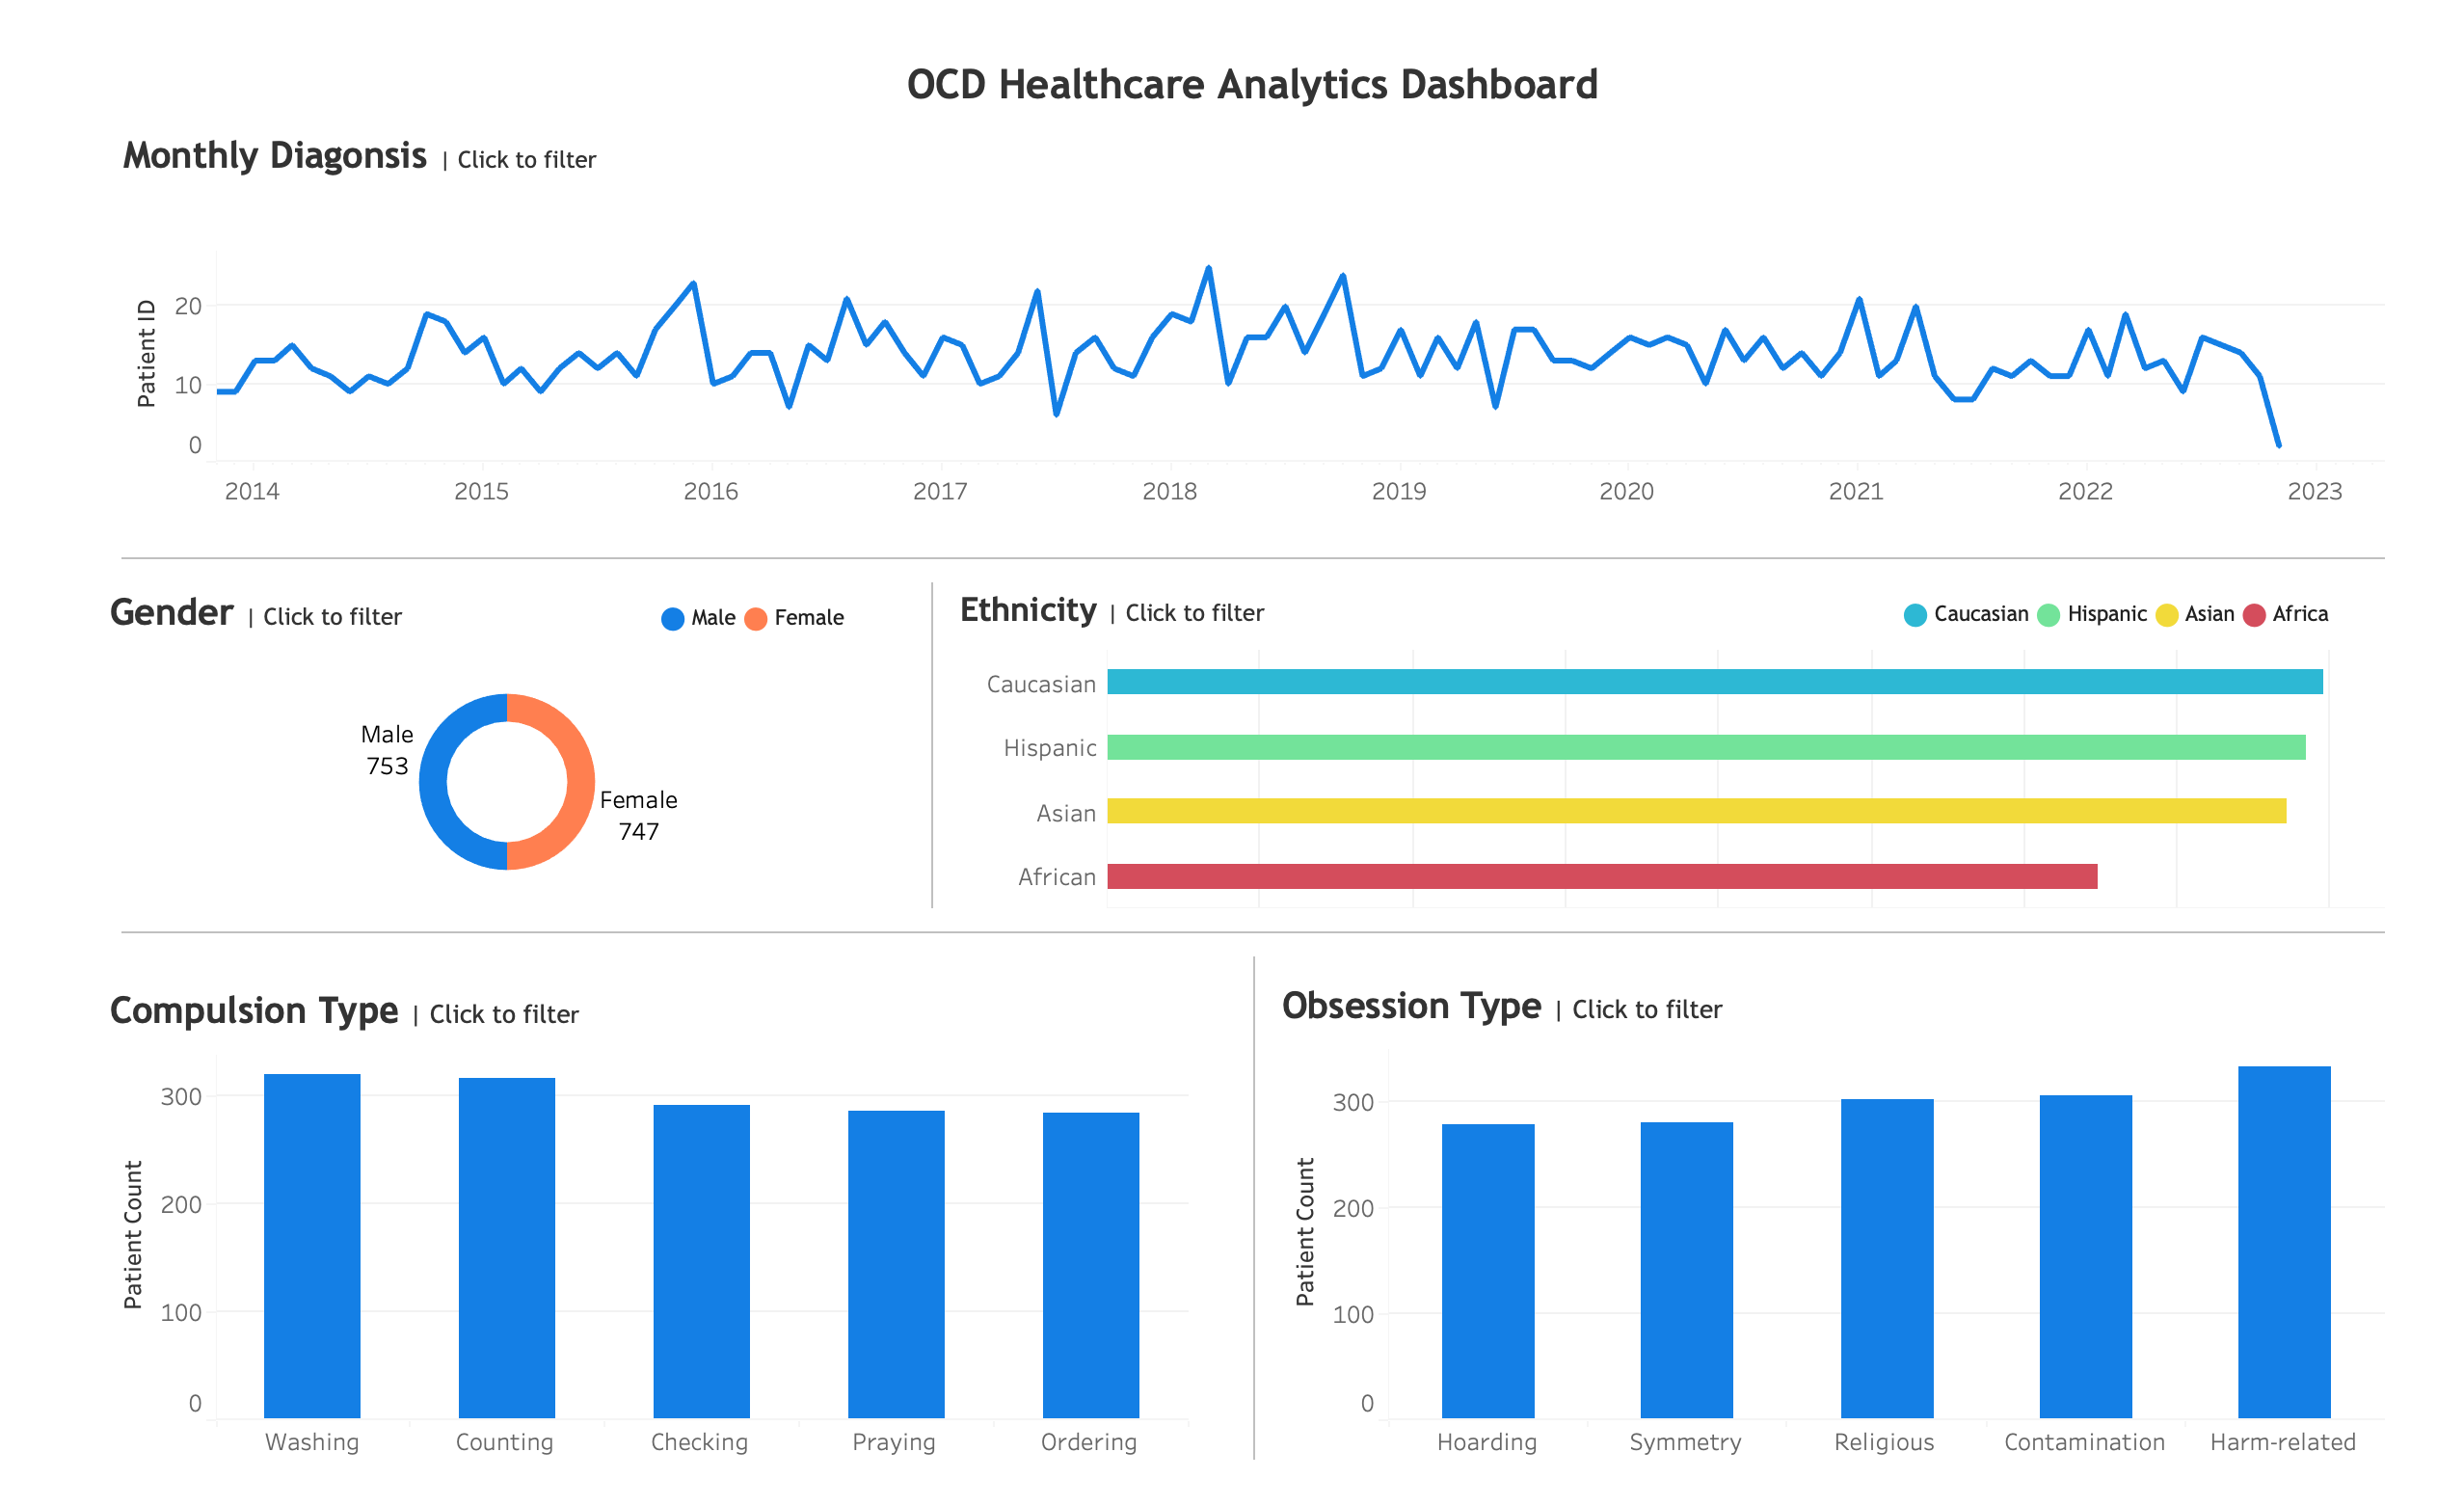

This screenshot's page, from the dashboard's own definition file:
{"tool":"tableau","page":{"name":"Health Dashboard","canvas":[1000,1000],"units":"permille","ordinal":0},"visuals":[{"type":"text","box":[6.6,11.2,986.8,57.3]},{"type":"worksheet","title":"diagnosis","mark":"Line","rows":["patient_count (diagnosis.csv)"],"cols":["month"],"box":[6.6,68.4,986.8,250]},{"type":"blank","box":[6.6,318.4,986.8,34.9]},{"type":"worksheet","title":"gender","mark":"Pie","cols":["Calculation_6009490798469238796","Calculation_6009490798469238796"],"box":[6.6,353.4,347.1,236]},{"type":"blank","box":[353.7,353.4,17.4,236]},{"type":"worksheet","title":"ethnicity","mark":"Automatic","rows":["Ethnicity (ethnicity.csv)"],"cols":["patient_count (ethnicity.csv)"],"box":[371.1,353.4,622.3,236]},{"type":"blank","box":[6.6,589.4,986.8,34.9]},{"type":"worksheet","title":"compullsion type (2)","mark":"Bar","rows":["patient_count"],"cols":["Compulsion Type (compulsion_type.csv)"],"box":[6.6,624.3,485.1,364.5]},{"type":"blank","box":[491.7,624.3,17.4,364.5]},{"type":"worksheet","title":"obsession type (2)","mark":"Bar","rows":["patient_count (obsession_type.csv)"],"cols":["Obsession Type (obsession_type.csv)"],"box":[509.1,624.3,484.3,364.5]}]}

Visuals, with their boxes on the dashboard's canvas, which has no fixed pixel size, in thousandths of its width and height (x1, y1, x2, y2). These are canvas units, not pixel positions in the 2464x1506 screenshot, which may show the page scaled, cropped or inside an application window:
text: x1=7 y1=11 x2=993 y2=68
"diagnosis" worksheet (Line marks): x1=7 y1=68 x2=993 y2=318
blank: x1=7 y1=318 x2=993 y2=353
"gender" worksheet (Pie marks): x1=7 y1=353 x2=354 y2=589
blank: x1=354 y1=353 x2=371 y2=589
"ethnicity" worksheet: x1=371 y1=353 x2=993 y2=589
blank: x1=7 y1=589 x2=993 y2=624
"compullsion type (2)" worksheet (Bar marks): x1=7 y1=624 x2=492 y2=989
blank: x1=492 y1=624 x2=509 y2=989
"obsession type (2)" worksheet (Bar marks): x1=509 y1=624 x2=993 y2=989
